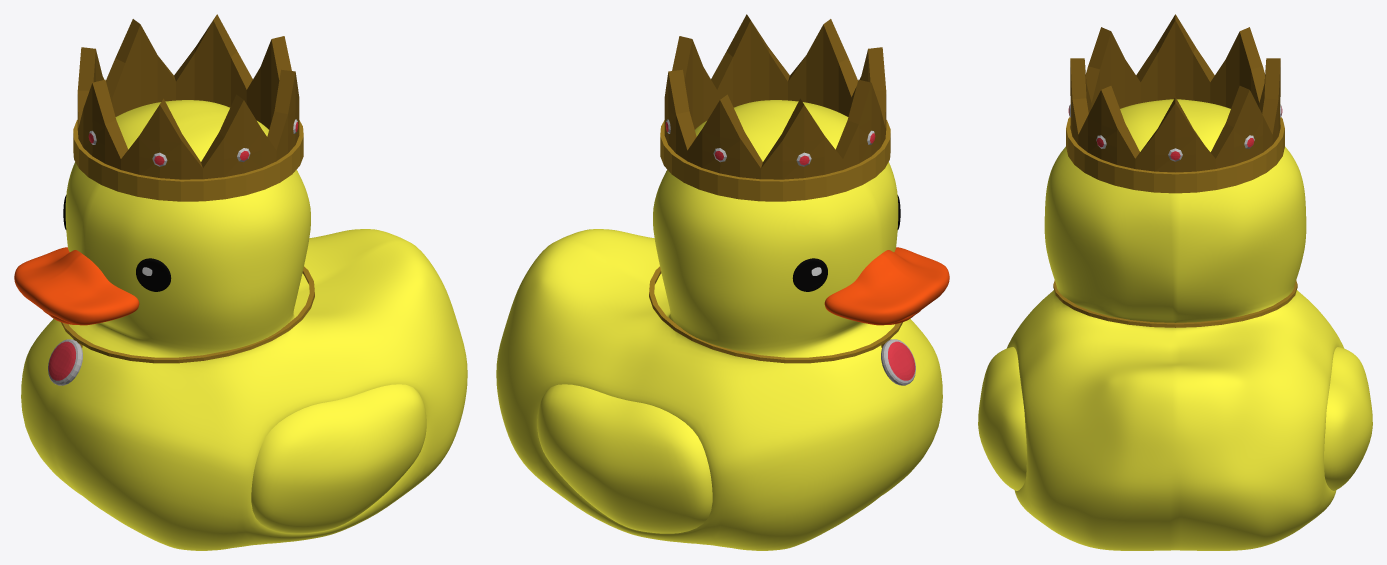
Rendered from dac1.gltf.
3 renders of one model, left to right at view 1: azimuth 30°, elevation 25°; view 2: azimuth 150°, elevation 25°; view 3: azimuth 270°, elevation 25°, orthographic. The views are drawn at different scales.
Parts seen in each view (by area): view 1: Duck; view 2: Duck; view 3: Duck.
Boxes of the visible parts, x1,y1,x2,y2 form: Duck: (14, 14, 467, 550); Duck: (496, 14, 949, 550); Duck: (978, 14, 1372, 550).
Bounding box in the file's own units: 1.39 × 1.44 × 1.22.
Materials: 1 (1 with a texture image).
